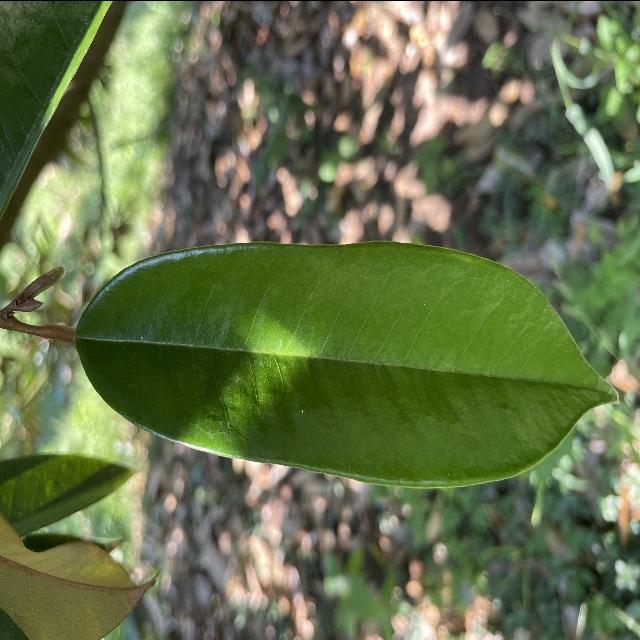No Disease: (67, 231, 628, 498)
